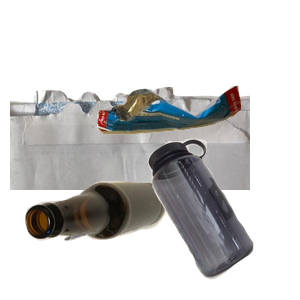glass: (23, 179, 183, 300)
paper: (10, 84, 250, 264)
plastic: (145, 136, 300, 300)
trash: (94, 83, 300, 210)
